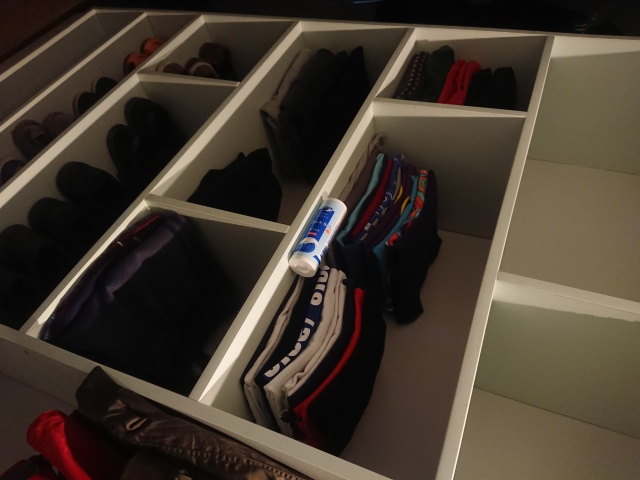Solana Pag Fine Sea Salt 250g: (287, 196, 349, 279)
